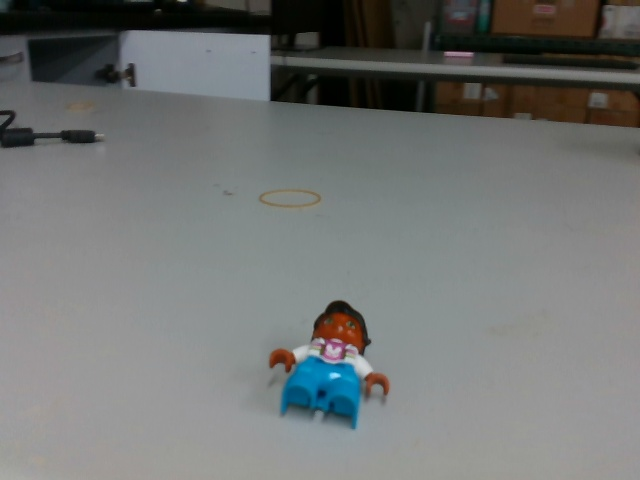people: (268, 299, 393, 426)
